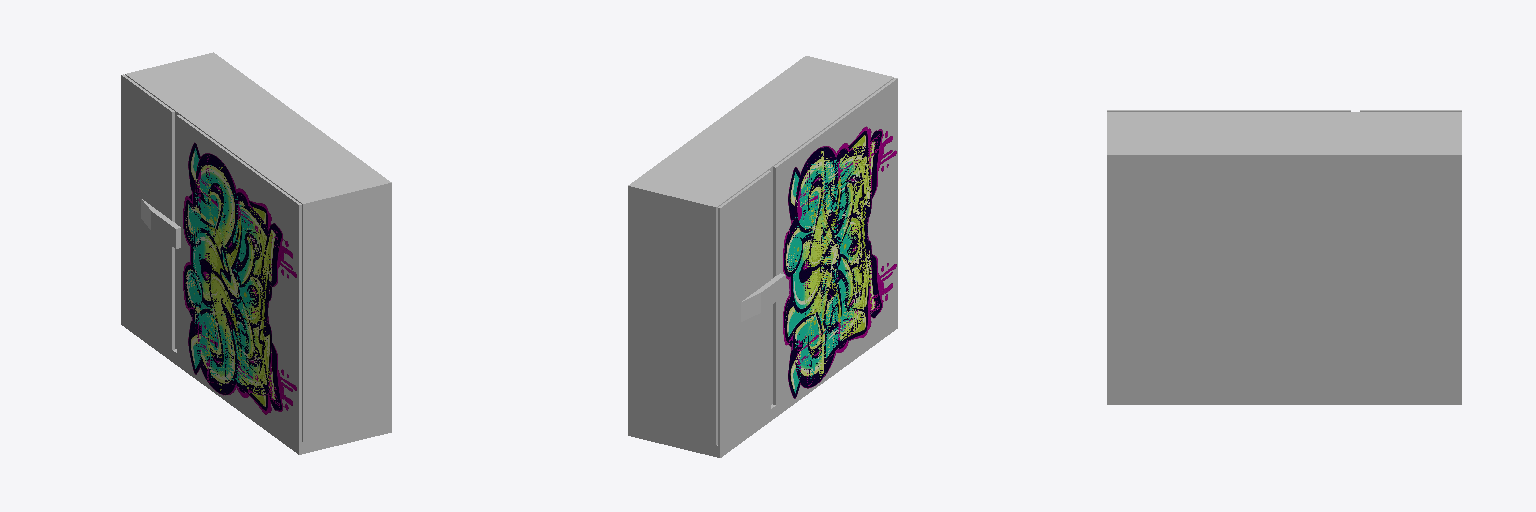
3 renders of one model, left to right at view 1: azimuth 30°, elevation 25°; view 2: azimuth 150°, elevation 25°; view 3: azimuth 270°, elevation 25°, orthographic.
Visible parts, largest first — view 1: cube; view 2: cube; view 3: cube.
Boxes of the visible parts, x1=… form: cube: x1=121, y1=52, x2=391, y2=454; cube: x1=628, y1=56, x2=897, y2=457; cube: x1=1107, y1=110, x2=1461, y2=404.
Bounding box in the file's own units: 0.3969 × 0.9688 × 1.28.
4 materials, 1 textured.